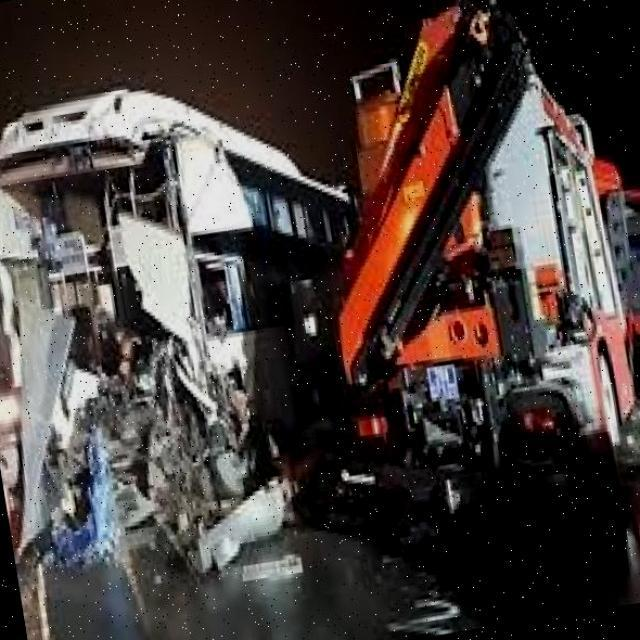accident: (0, 54, 330, 640)
